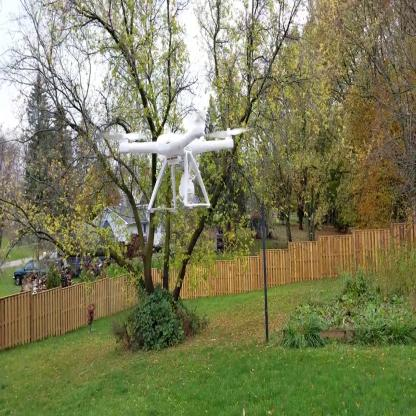drone: (111, 114, 253, 178)
